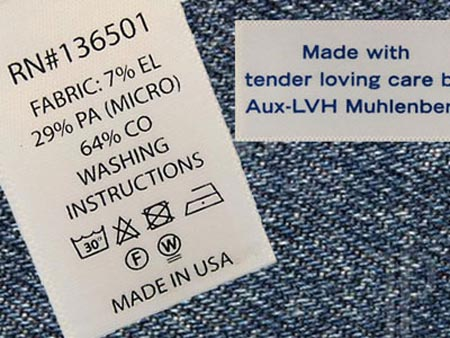do_not_bleach: (113, 216, 142, 245)
